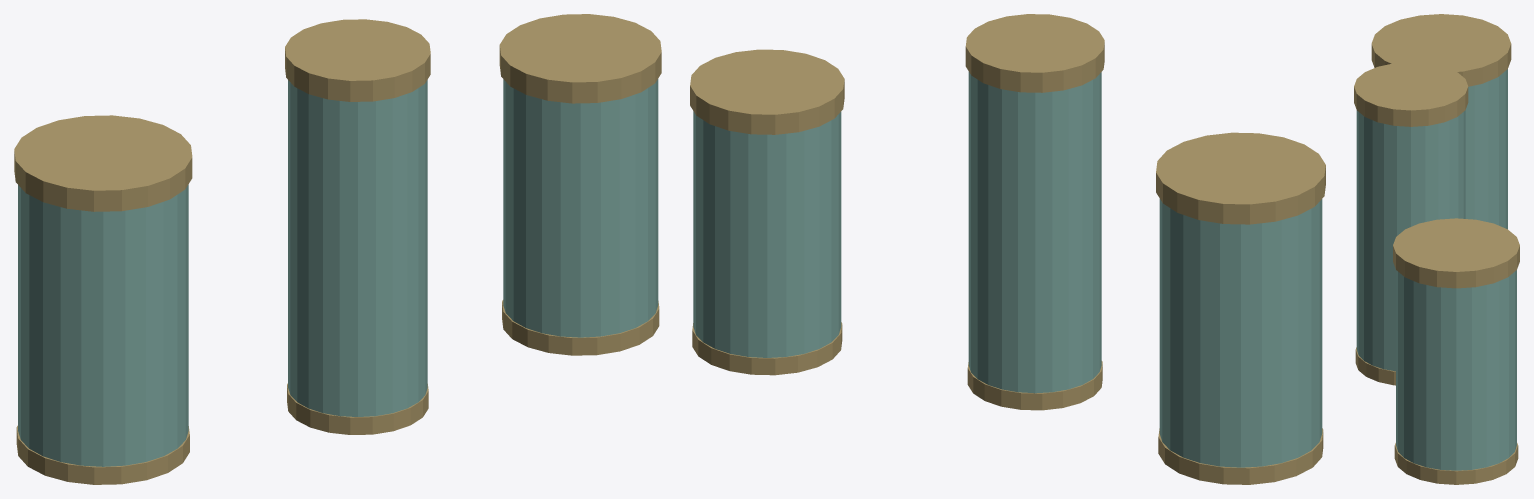
Rendered from JarSet_BodyParts.glb.
The picture shows the model from 3 angles, left to right: view 1: azimuth 30°, elevation 25°; view 2: azimuth 150°, elevation 25°; view 3: azimuth 270°, elevation 25°; orthographic projection. The views are drawn at different scales.
Parts seen in each view (by area): view 1: JarGlass_1, JarGlass_0, JarGlass_2, JarLid_0, JarLid_2, JarLid_1, JarBase_0, JarBase_2, JarBase_1; view 2: JarGlass_1, JarGlass_0, JarGlass_2, JarLid_0, JarLid_2, JarLid_1, JarBase_0, JarBase_2, JarBase_1; view 3: JarGlass_2, JarGlass_1, JarLid_2, JarLid_0, JarLid_1, JarGlass_0, JarBase_2, JarBase_1.
Part boxes in pixels (<box>): JarGlass_1: <box>288,80,427,416</box>; JarGlass_0: <box>18,184,188,466</box>; JarGlass_2: <box>503,79,658,337</box>; JarLid_0: <box>14,115,192,211</box>; JarLid_2: <box>499,14,661,103</box>; JarLid_1: <box>285,19,430,101</box>; JarBase_0: <box>16,425,189,484</box>; JarBase_2: <box>502,300,659,355</box>; JarBase_1: <box>287,383,428,434</box>; JarGlass_1: <box>968,71,1101,393</box>; JarGlass_0: <box>1159,199,1322,467</box>; JarGlass_2: <box>693,111,841,357</box>; JarLid_0: <box>1156,132,1325,224</box>; JarLid_2: <box>690,49,844,134</box>; JarLid_1: <box>965,14,1104,92</box>; JarBase_0: <box>1158,428,1323,484</box>; JarBase_2: <box>692,322,842,375</box>; JarBase_1: <box>967,361,1102,410</box>; JarGlass_2: <box>1396,270,1516,470</box>; JarGlass_1: <box>1356,110,1465,371</box>; JarLid_2: <box>1393,218,1519,288</box>; JarLid_0: <box>1371,14,1511,86</box>; JarLid_1: <box>1354,62,1468,126</box>; JarGlass_0: <box>1465,69,1507,229</box>; JarBase_2: <box>1394,443,1518,484</box>; JarBase_1: <box>1355,347,1395,385</box>.
Bounding box in the file's own units: 1.89 × 1.01 × 0.549.
